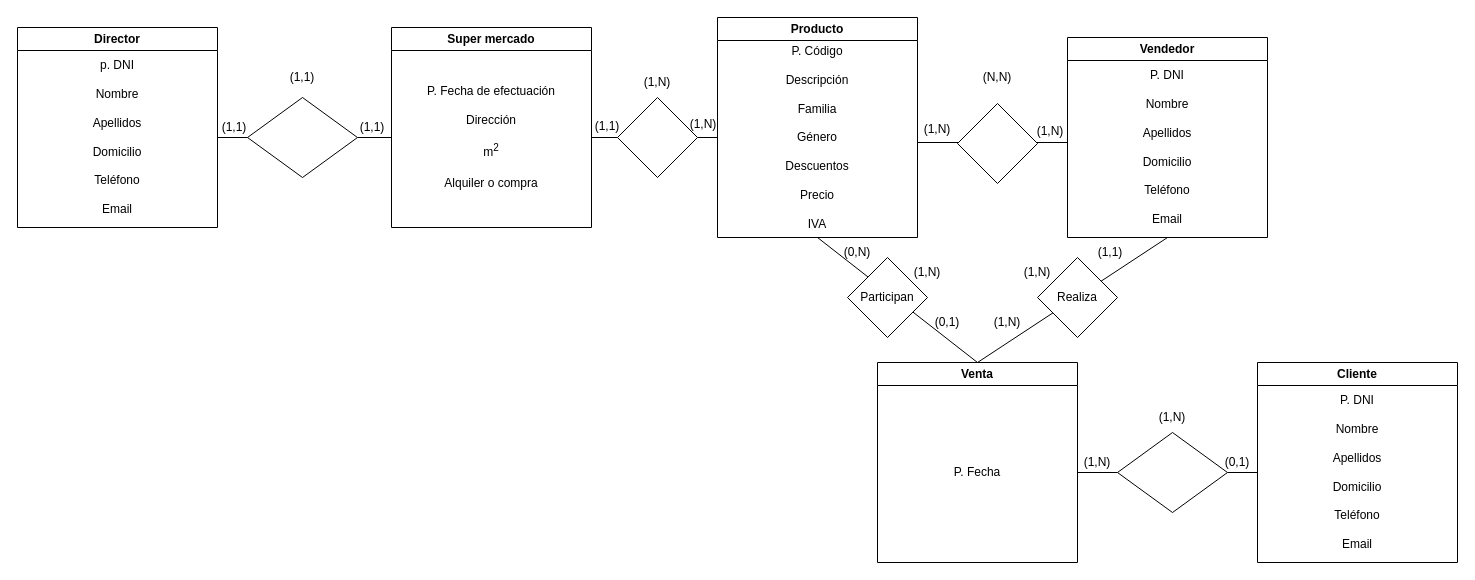
The diagram is 1475 pixels wide and 580 high, and some of its shapes have lost their labels. Each missing label, with the centre of its shape:
Adquiere: point (657, 137)
Dirige: point (302, 137)
Registra: point (1172, 472)
Vende: point (997, 143)
